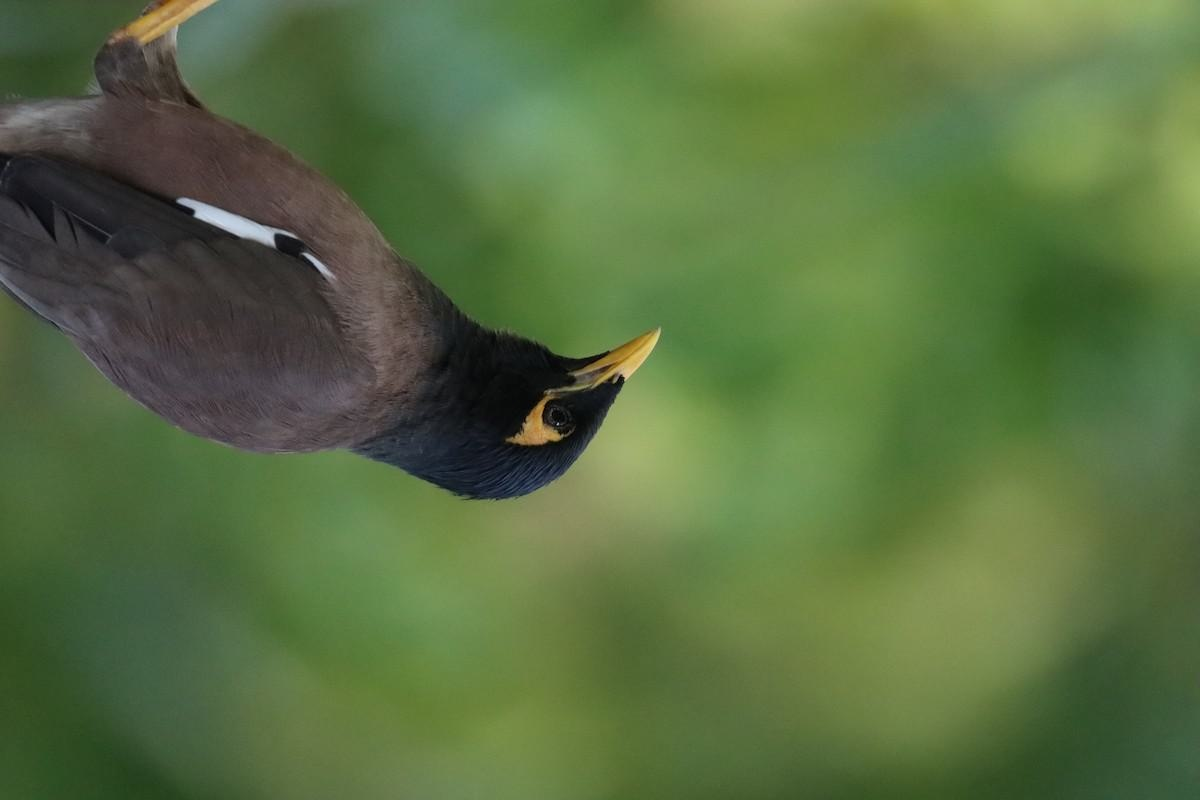myna: (1, 35, 701, 526)
